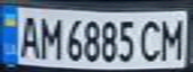5: (115, 17, 139, 63)
6: (63, 16, 84, 62)
8: (81, 16, 103, 63), (100, 17, 121, 63)
A: (15, 11, 42, 60)
C: (136, 16, 166, 62)
M: (157, 15, 190, 61), (36, 14, 63, 61)
